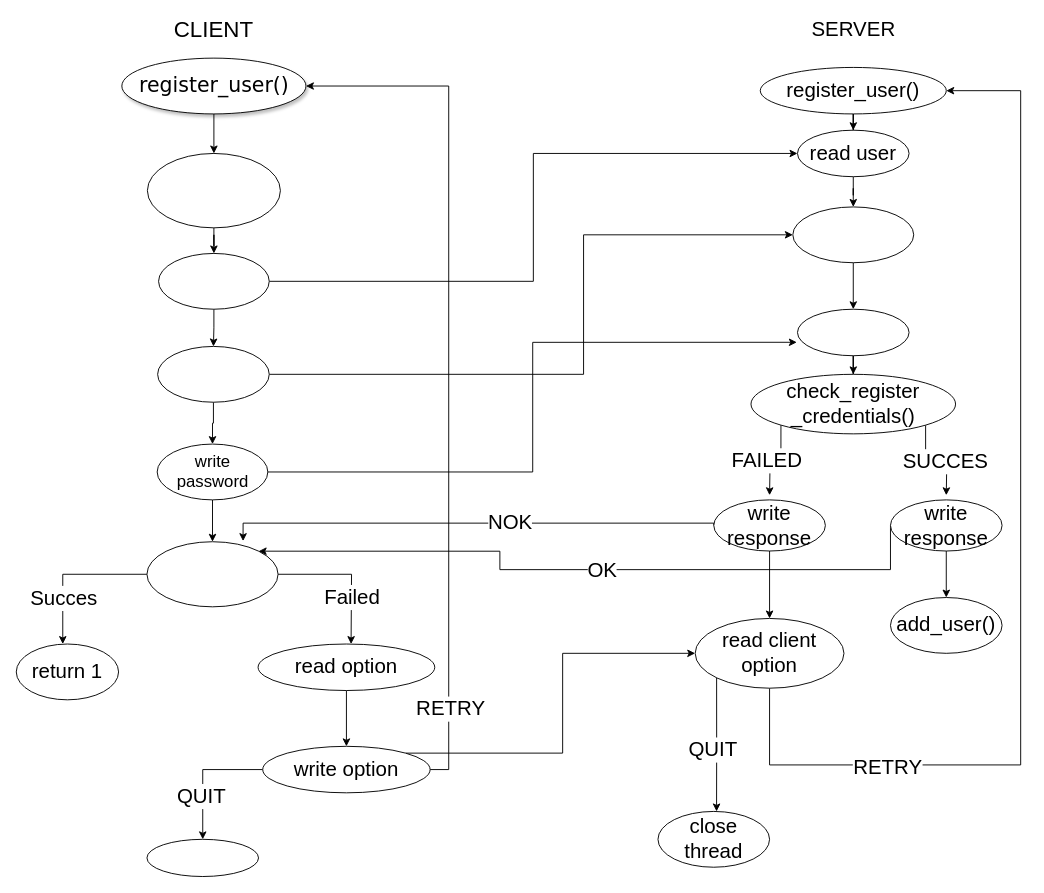
Some shapes in this 1044 by 893 pixel diagram are drawn without their labels. Each missing label, with the centre of its shape:
read from stdin user and password: [213,190]
read options: [853,234]
read pass: [853,332]
read server_response: [212,574]
return 0: [202,857]
write options: [213,373]
write user: [213,280]
